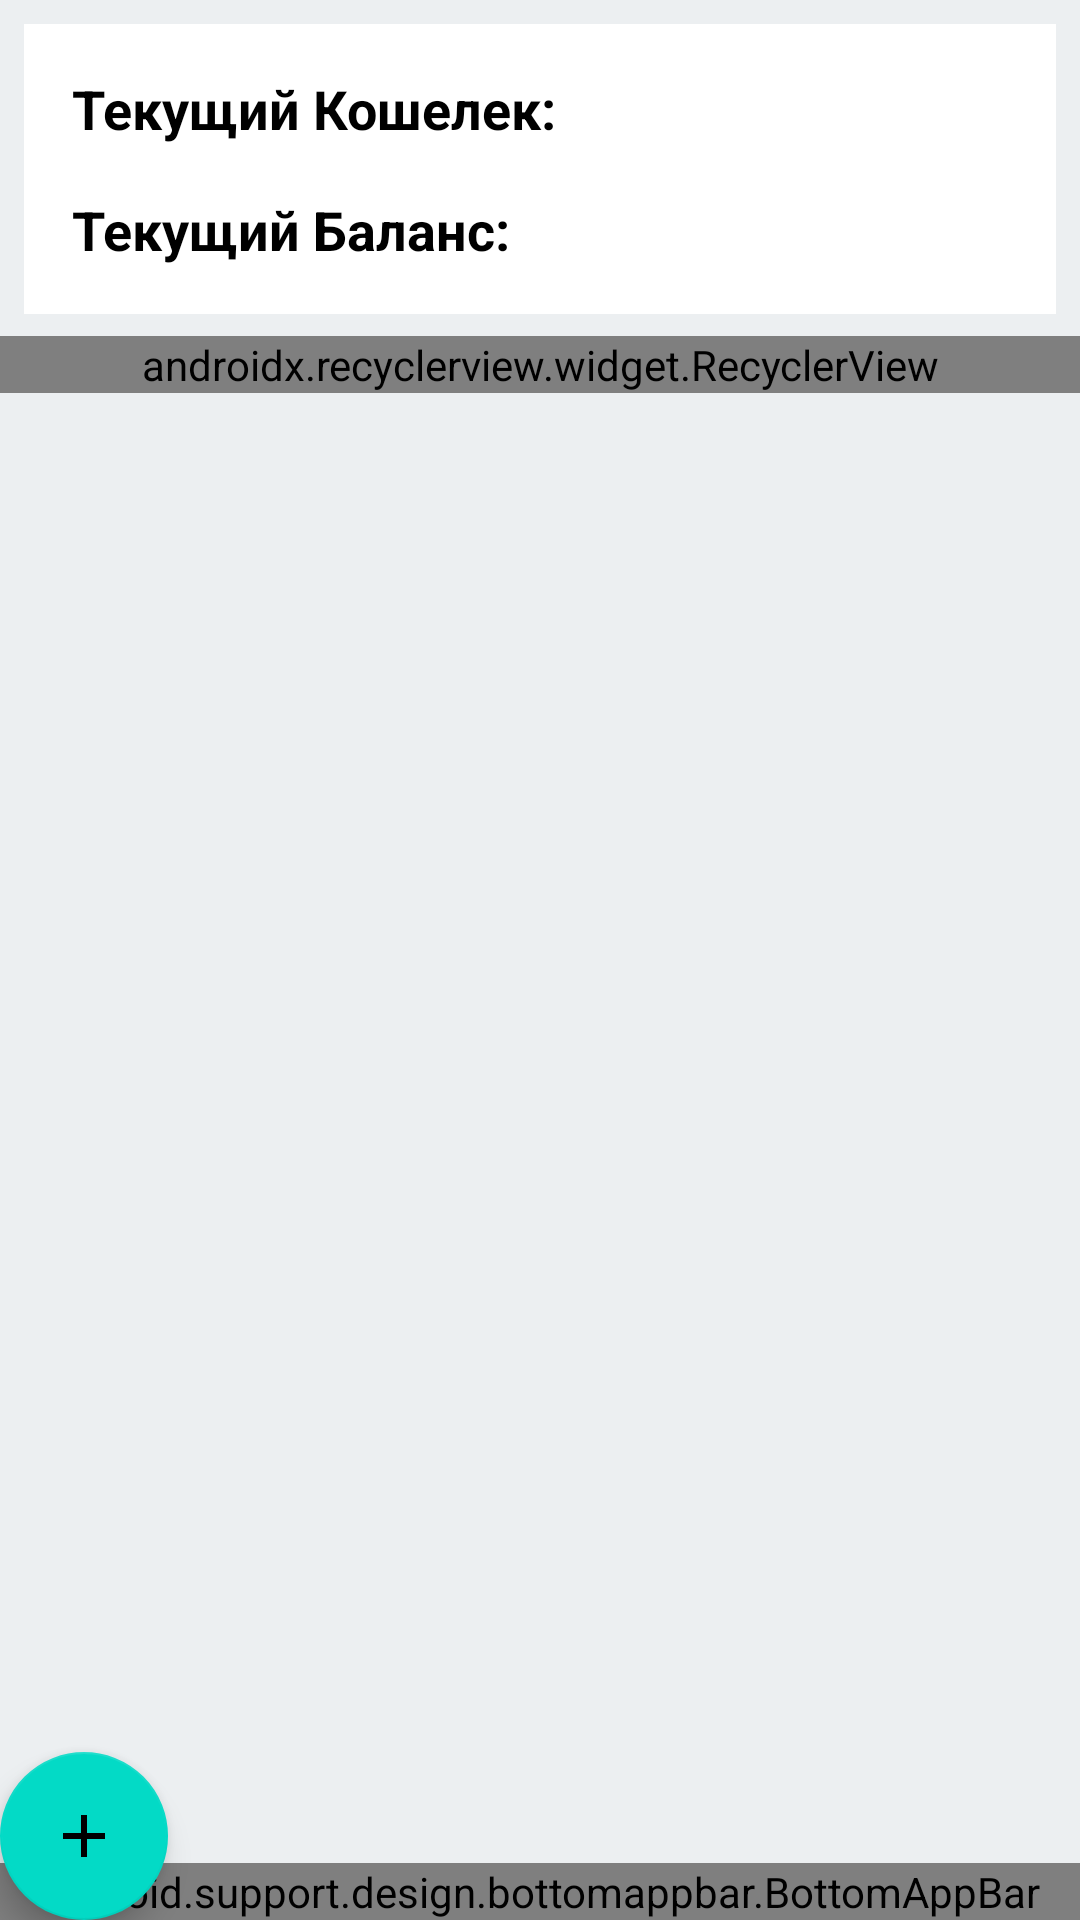

Screen size 1080x1920. Icon name, then its center in pixels as (x,y):
add: (84,1836)
